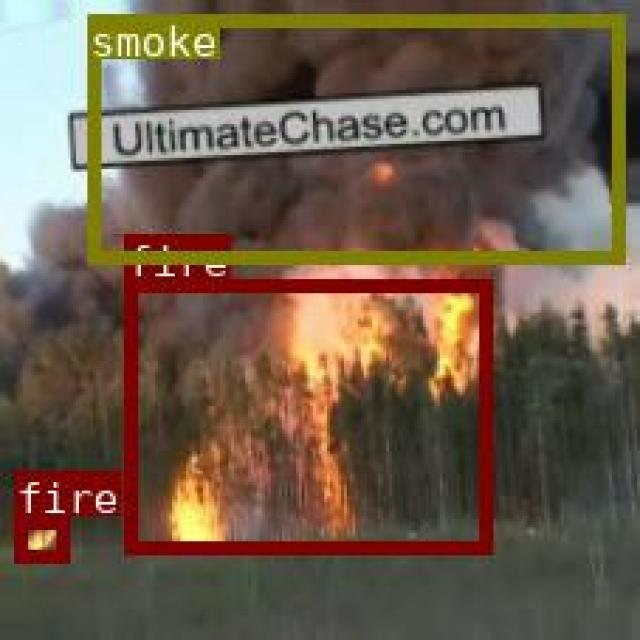fire: (121, 276, 490, 550), (13, 514, 67, 559)
smoke: (87, 12, 621, 260)
